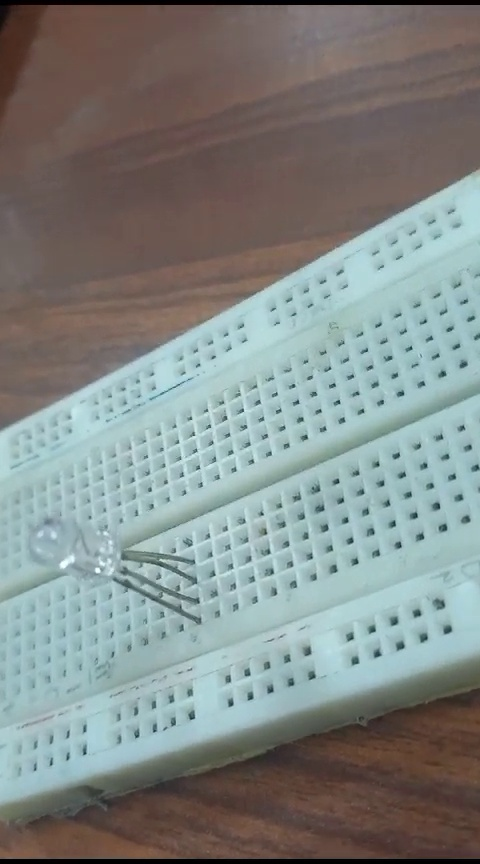LED: (18, 504, 204, 629)
